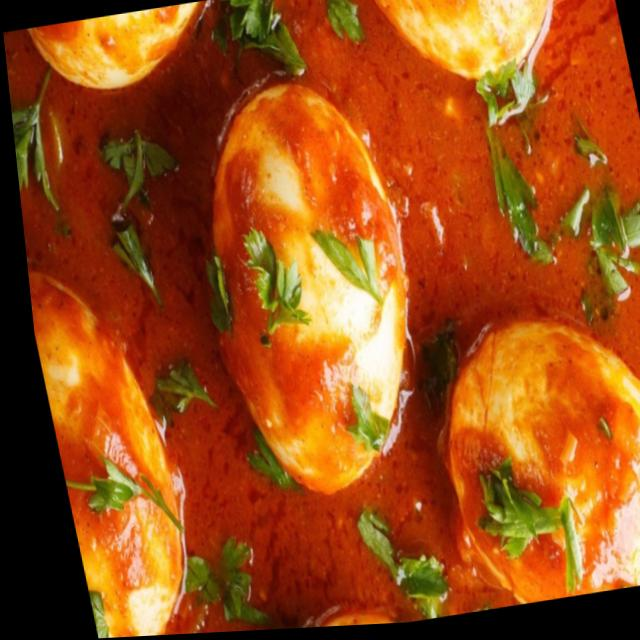EGG: (3, 0, 640, 638)
